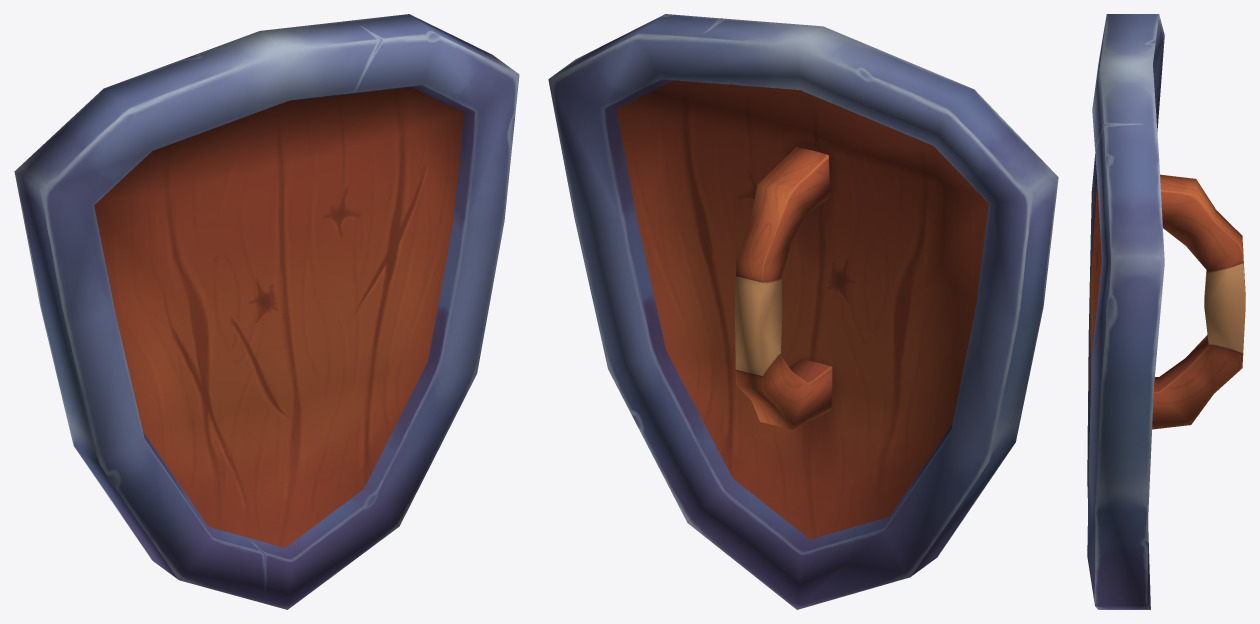
Rendered from shield.fbx.
3 views of the same model, side by side, from view 1: azimuth 30°, elevation 25°; view 2: azimuth 150°, elevation 25°; view 3: azimuth 270°, elevation 25° (orthographic). The views are drawn at different scales.
Parts seen in each view (by area): view 1: Shield; view 2: Shield; view 3: Shield.
Part boxes in pixels (box(x1,y1,x2,y2)): Shield: box(14, 14, 519, 609); Shield: box(548, 14, 1058, 609); Shield: box(1087, 14, 1245, 609).
Bounding box in the file's own units: 195 × 218 × 57.34.
Materials: 1 (1 with a texture image).
